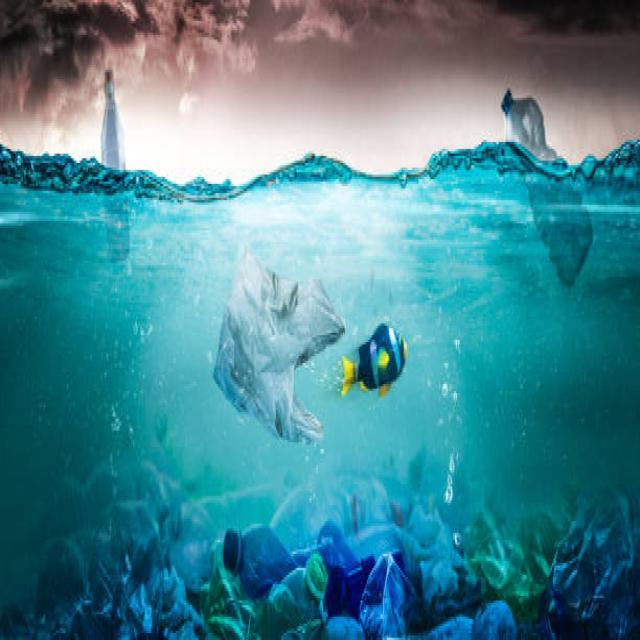glass: (94, 58, 140, 277)
plastic: (222, 219, 326, 458), (498, 74, 603, 291)
